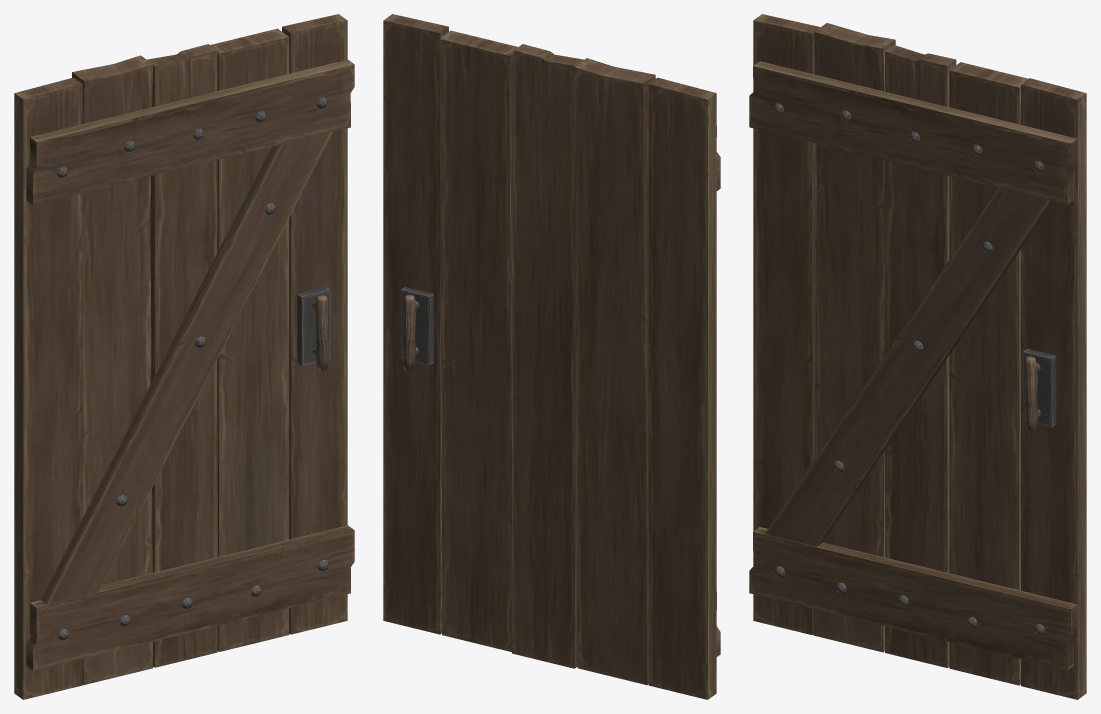
Rendered from SM_Stylized_Wood_Door.glb.
3 renders of one model, left to right at view 1: azimuth 30°, elevation 25°; view 2: azimuth 150°, elevation 25°; view 3: azimuth 330°, elevation 25°, orthographic.
Parts seen in each view (by area): view 1: SM_Stylized_Wood_Door; view 2: SM_Stylized_Wood_Door; view 3: SM_Stylized_Wood_Door.
Part boxes in pixels (x1,y1,x2,y2): SM_Stylized_Wood_Door: (14, 14, 354, 699); SM_Stylized_Wood_Door: (383, 14, 720, 699); SM_Stylized_Wood_Door: (749, 14, 1086, 699).
Bounding box in the file's own units: 1.21 × 2.15 × 0.2308.
Materials: 1 (1 with a texture image).
